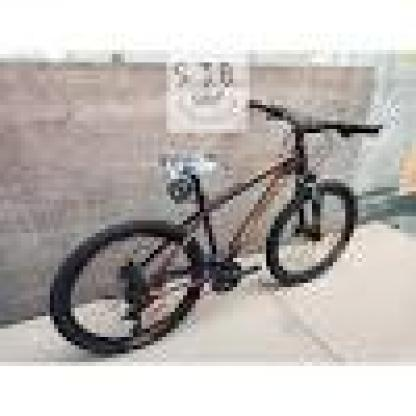Bike: (44, 93, 388, 360)
